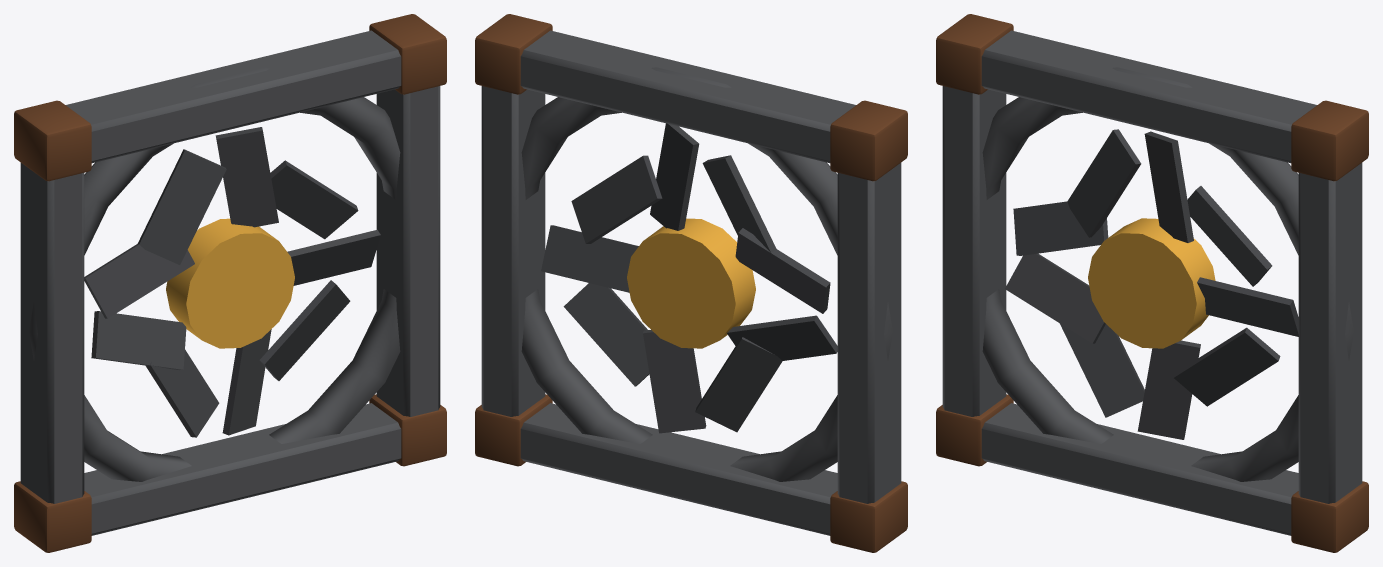
Rendered from acc_fan_noctua.glb.
The picture shows the model from 3 angles, left to right: view 1: azimuth 30°, elevation 25°; view 2: azimuth 150°, elevation 25°; view 3: azimuth 330°, elevation 25°; orthographic projection.
Parts seen in each view (by area): view 1: Acc_Fan_Noctua, SpinFan_Noctua_A12_Z; view 2: Acc_Fan_Noctua, SpinFan_Noctua_A12_Z; view 3: Acc_Fan_Noctua, SpinFan_Noctua_A12_Z.
Part boxes in pixels (box(x1,y1,x2,y2)): Acc_Fan_Noctua: box(14, 14, 446, 552); SpinFan_Noctua_A12_Z: box(84, 127, 380, 437); Acc_Fan_Noctua: box(475, 14, 907, 552); SpinFan_Noctua_A12_Z: box(541, 123, 837, 433); Acc_Fan_Noctua: box(936, 14, 1368, 552); SpinFan_Noctua_A12_Z: box(1005, 129, 1298, 439).
Bounding box in the file's own units: 0.9532 × 0.95 × 0.14.
